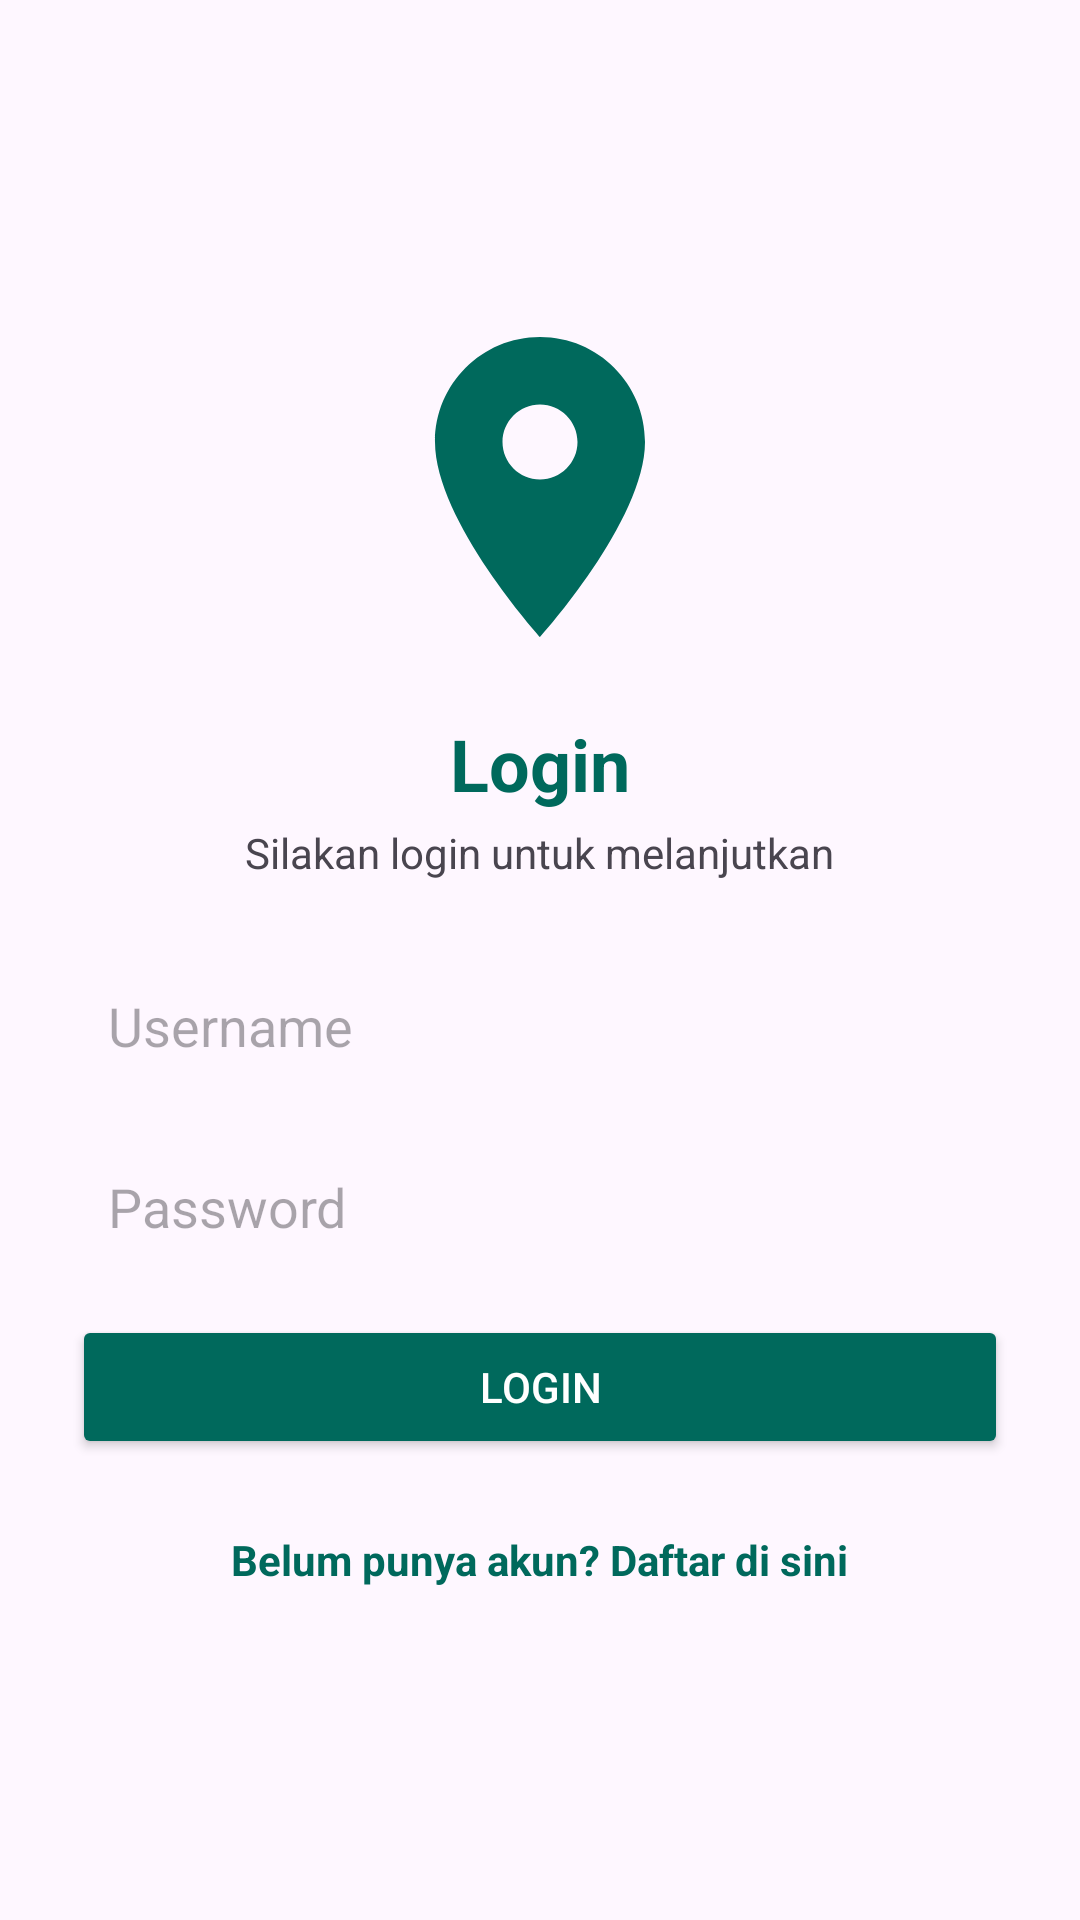

Named icons in this screenshot (1080x1920) and their centers, [x,y]:
destination: [539,487]
